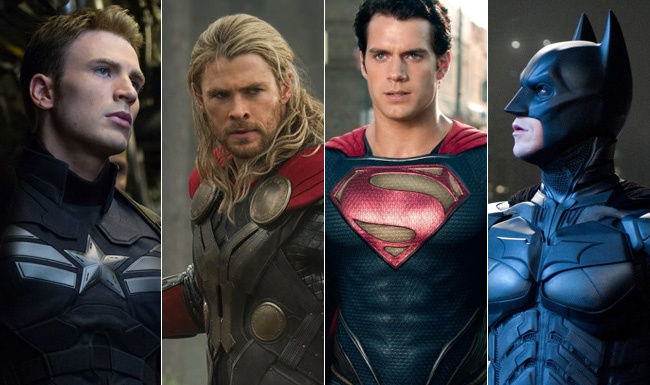bad: (67, 32, 175, 140), (195, 66, 285, 156), (361, 38, 436, 113)
